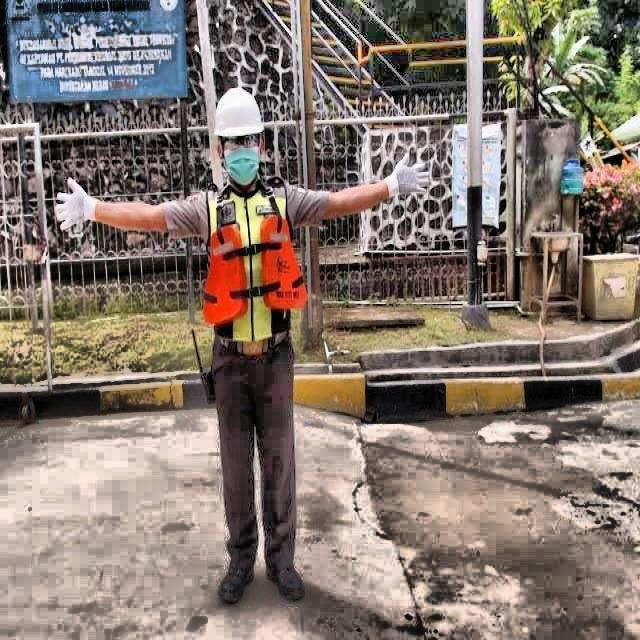safety_helmet: (214, 87, 264, 146)
safety_jacket: (202, 183, 307, 346)
